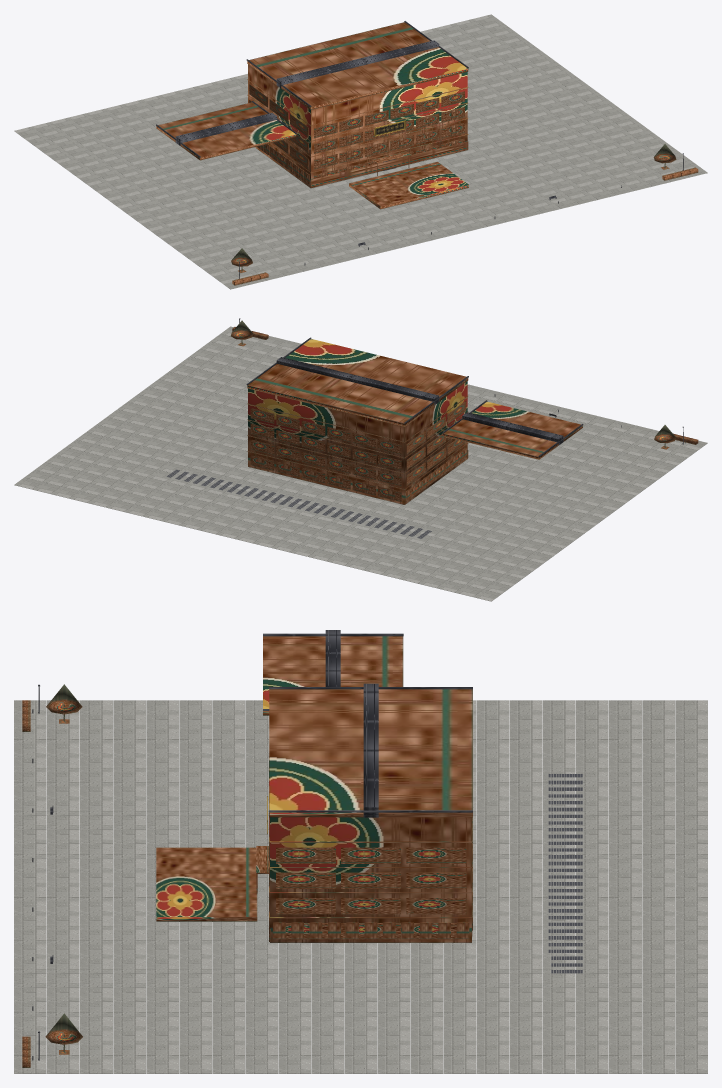
The picture shows the model from 3 angles, top to bottom: view 1: azimuth 30°, elevation 25°; view 2: azimuth 150°, elevation 25°; view 3: azimuth 270°, elevation 25°; orthographic projection. The views are drawn at different scales.
Visible parts, largest first — view 1: 11710_01_05735_048_01__plinth_ground_base, 11710_01_05735_048_02__mass_body_facade, 11710_01_05735_048_03__roof_metal_ornament, 11710_01_05735_048_05__window_sash_glass, 11710_01_05735_048_06__landscape_greenery; view 2: 11710_01_05735_048_01__plinth_ground_base, 11710_01_05735_048_02__mass_body_facade, 11710_01_05735_048_03__roof_metal_ornament, 11710_01_05735_048_03__roof_deck_structure, 11710_01_05735_048_06__landscape_greenery; view 3: 11710_01_05735_048_01__plinth_ground_base, 11710_01_05735_048_02__mass_body_facade, 11710_01_05735_048_03__roof_metal_ornament, 11710_01_05735_048_03__roof_deck_structure, 11710_01_05735_048_06__landscape_greenery.
Part boxes in pixels (x1,y1,x2,y2): 11710_01_05735_048_01__plinth_ground_base: [14, 14, 707, 289]; 11710_01_05735_048_02__mass_body_facade: [156, 22, 468, 209]; 11710_01_05735_048_03__roof_metal_ornament: [156, 21, 468, 157]; 11710_01_05735_048_05__window_sash_glass: [320, 108, 458, 177]; 11710_01_05735_048_06__landscape_greenery: [231, 144, 698, 285]; 11710_01_05735_048_01__plinth_ground_base: [14, 326, 707, 601]; 11710_01_05735_048_02__mass_body_facade: [247, 339, 582, 504]; 11710_01_05735_048_03__roof_metal_ornament: [246, 337, 583, 456]; 11710_01_05735_048_03__roof_deck_structure: [167, 469, 431, 538]; 11710_01_05735_048_06__landscape_greenery: [231, 320, 698, 449]; 11710_01_05735_048_01__plinth_ground_base: [14, 700, 707, 1073]; 11710_01_05735_048_02__mass_body_facade: [156, 636, 472, 942]; 11710_01_05735_048_03__roof_metal_ornament: [263, 630, 472, 817]; 11710_01_05735_048_03__roof_deck_structure: [548, 774, 582, 973]; 11710_01_05735_048_06__landscape_greenery: [22, 684, 82, 1067].
Size of the model in its own units: 140 by 24.8 by 110.
7 materials, 7 textured.
